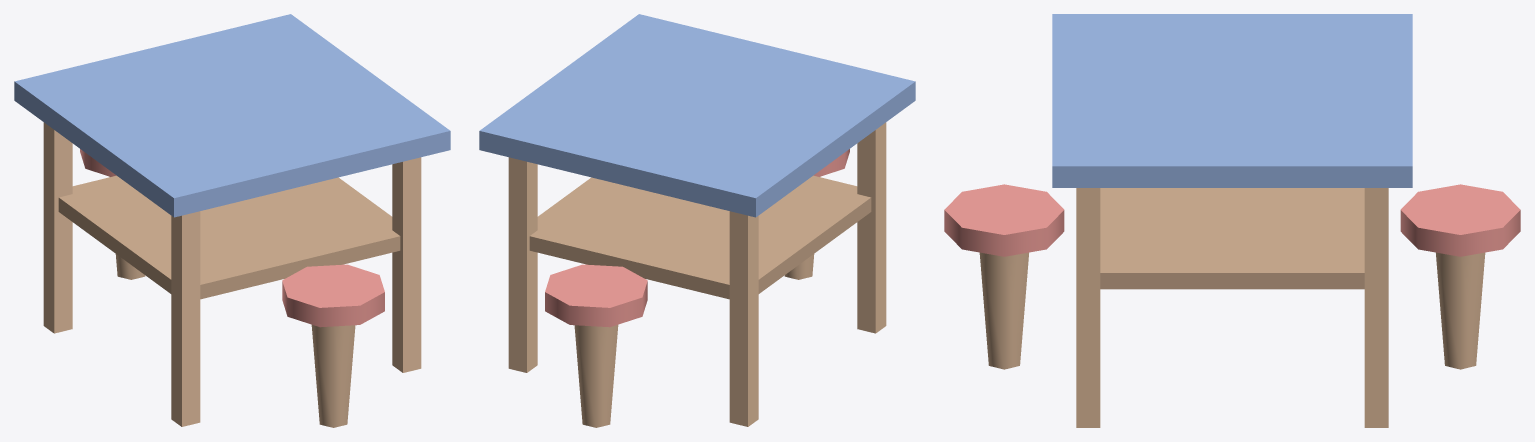
File: kidsTableSet.glb
3 renders of one model, left to right at view 1: azimuth 30°, elevation 25°; view 2: azimuth 150°, elevation 25°; view 3: azimuth 270°, elevation 25°, orthographic. The views are drawn at different scales.
Parts seen in each view (by area): view 1: kidsTableSet; view 2: kidsTableSet; view 3: kidsTableSet.
Boxes of the visible parts, x1,y1,x2,y2 form: kidsTableSet: [14, 14, 450, 427]; kidsTableSet: [479, 14, 915, 427]; kidsTableSet: [944, 14, 1520, 427].
Bounding box in the file's own units: 0.3 × 0.25 × 0.48.
